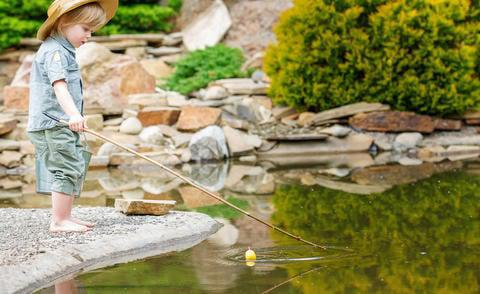child: (25, 1, 114, 232)
